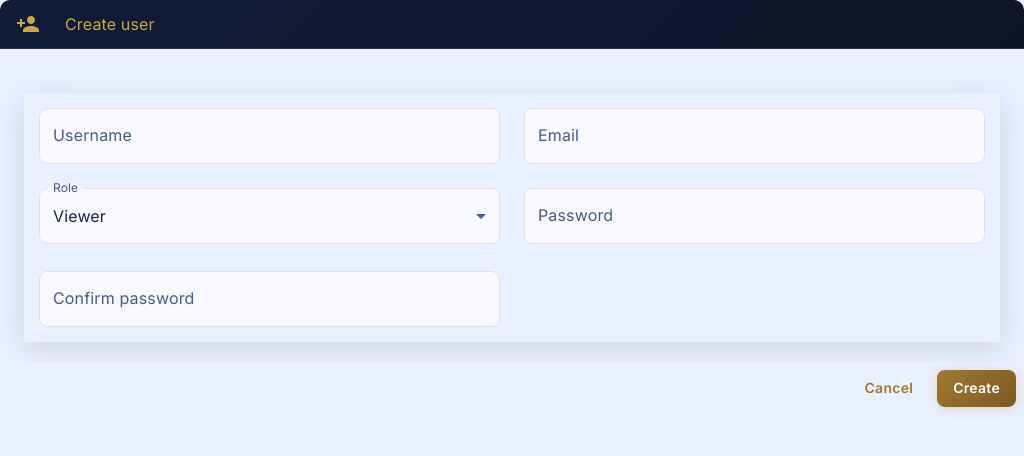
Test: CreateUserModal › shows validation when passwords do not match
The width and height of the screenshot is (1024, 456).
Type "newuser" into the field labelled "Username". click: (270, 136)
box: left=39, top=108, right=500, bottom=164
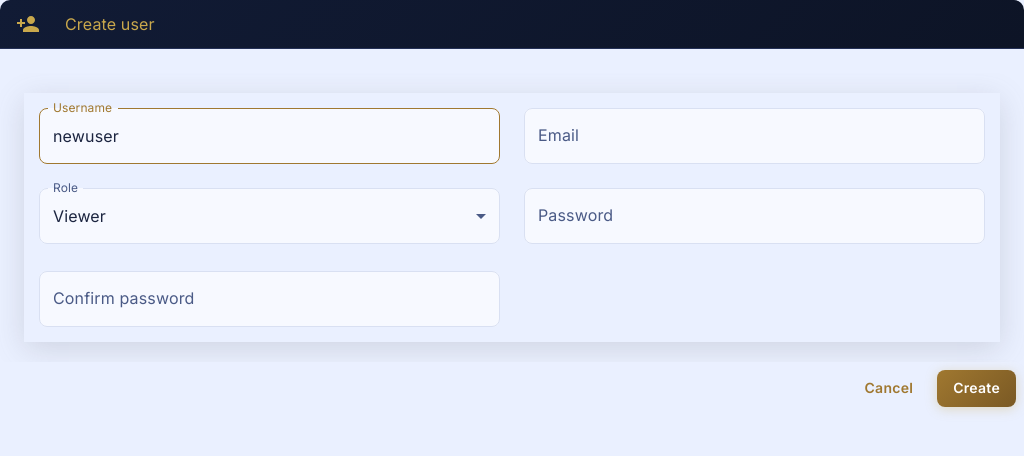
Type "password-one" into the password field labelled "Password". click: (754, 216)
box: left=524, top=188, right=985, bottom=244
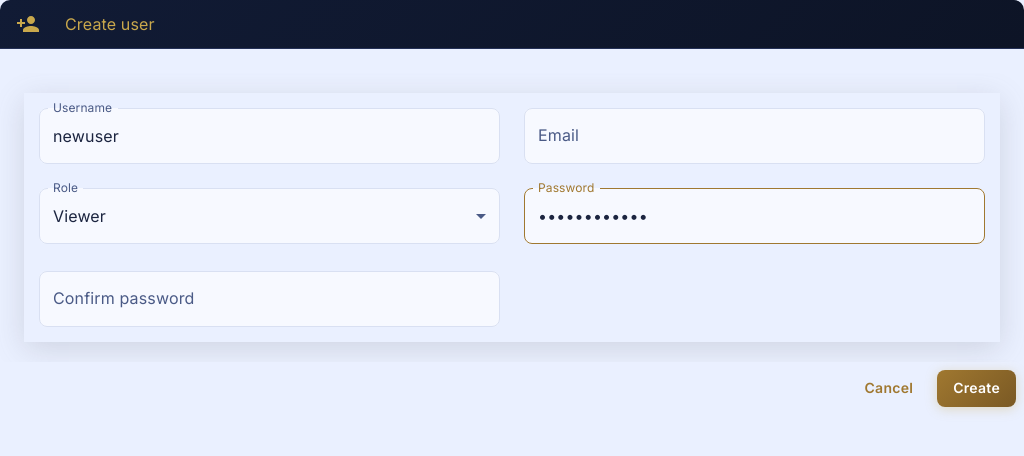
Type "password-two" into the password field labelled "Confirm password". click: (270, 299)
box: left=39, top=271, right=500, bottom=327
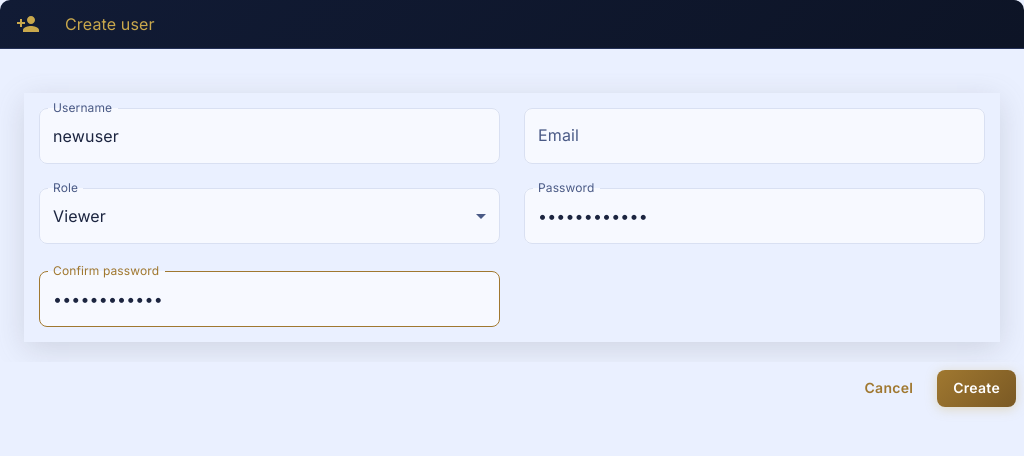
Click the button "Create". click: (977, 388)
box: left=937, top=370, right=1016, bottom=406
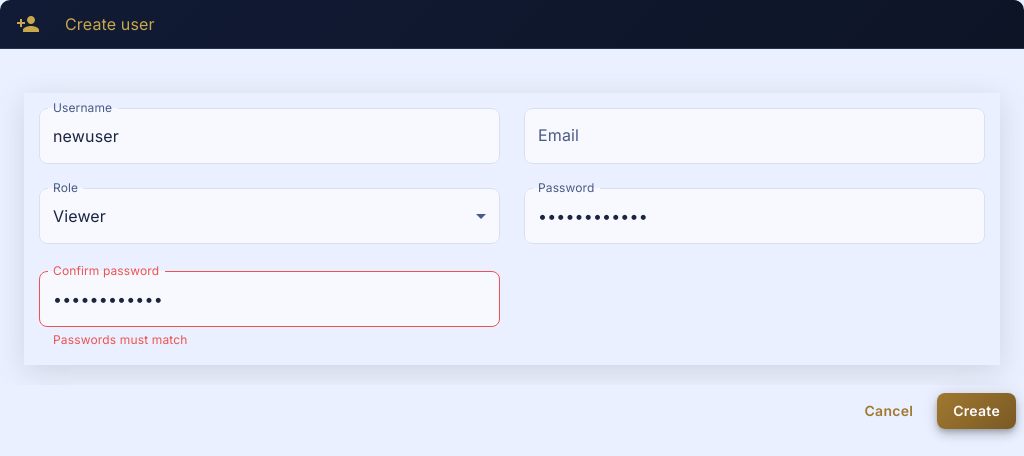
Check: the text "Passwords must match" is shown, box left=53, top=332, right=188, bottom=347
